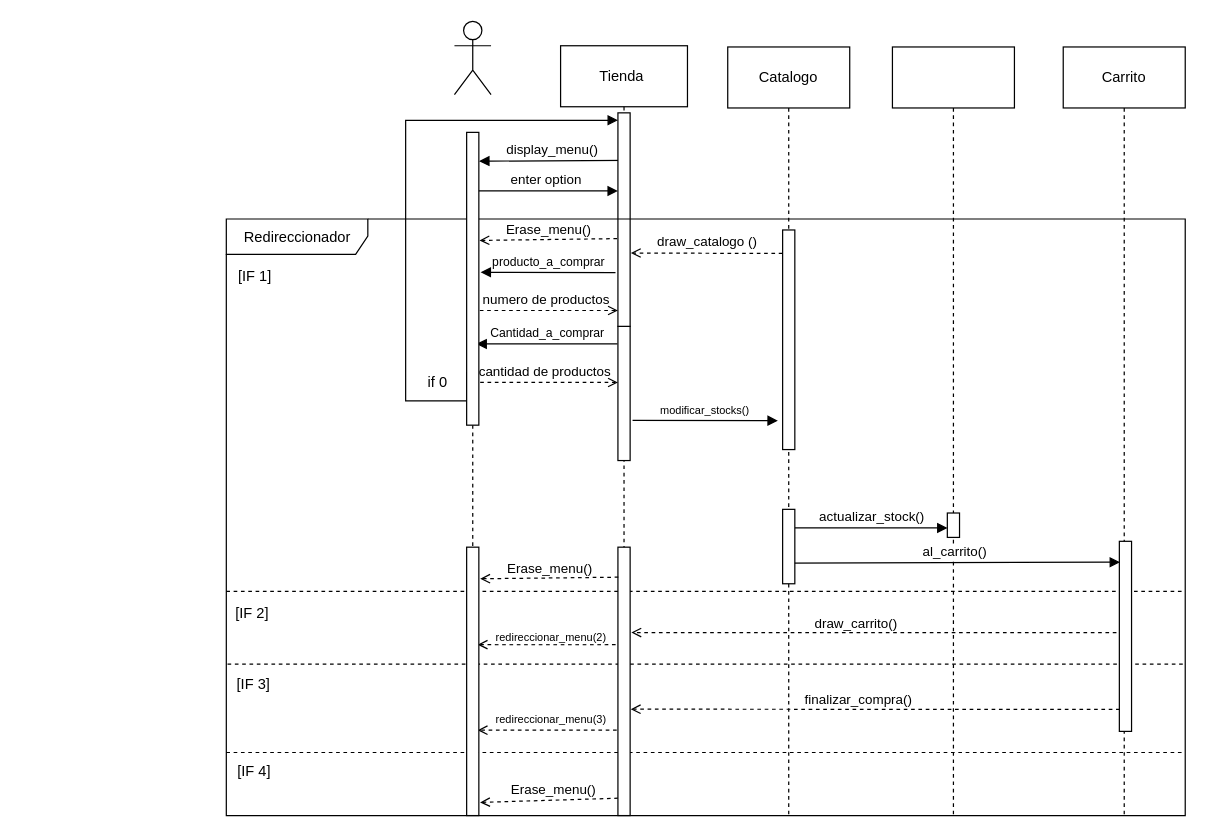
Some shapes in this 1208 by 837 pixel diagram are drawn without their labels. Here are the shapes that lost their labels. From the top down, the box of each, then its label:
(453, 20, 491, 95): Actor
(891, 46, 1014, 816): Artículos
